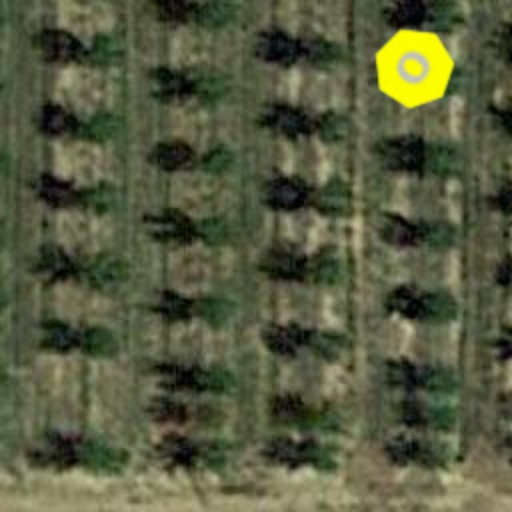heptagon: (356, 10, 472, 126)
